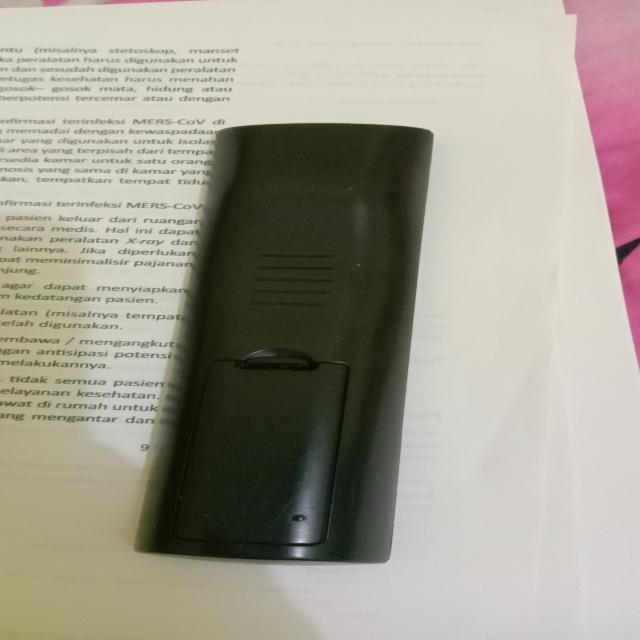remote: (108, 120, 449, 583)
